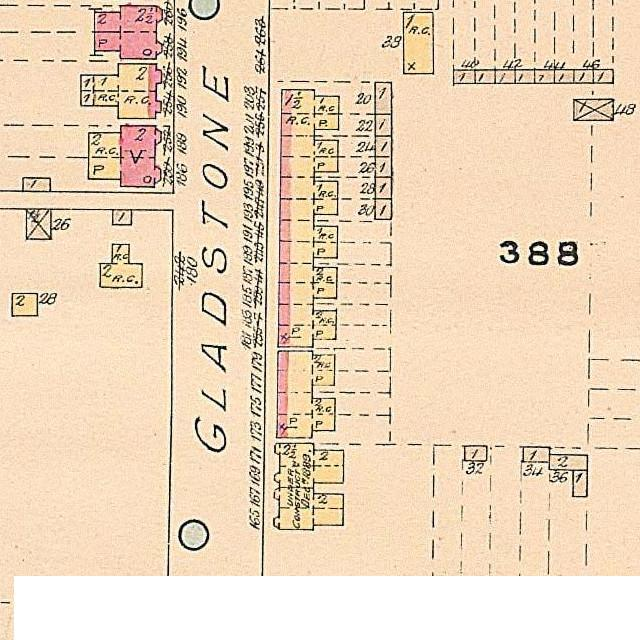building-footprints: (277, 89, 339, 347), (276, 351, 335, 438), (80, 64, 161, 119), (88, 126, 161, 187), (94, 6, 162, 59), (274, 443, 343, 488), (273, 488, 343, 530), (403, 12, 433, 74), (99, 244, 142, 287), (574, 100, 613, 120), (26, 209, 50, 239), (549, 454, 587, 470), (11, 294, 37, 316), (374, 82, 391, 115), (523, 447, 549, 462), (375, 114, 392, 136), (573, 470, 587, 496), (374, 199, 392, 219), (23, 178, 50, 191), (464, 446, 487, 461), (375, 157, 392, 177), (375, 136, 391, 157), (375, 178, 391, 199), (112, 209, 131, 225), (453, 70, 475, 83), (494, 70, 515, 83), (554, 69, 573, 83), (514, 70, 534, 83), (573, 70, 593, 83), (593, 70, 613, 83), (475, 70, 494, 83), (535, 70, 554, 83)
